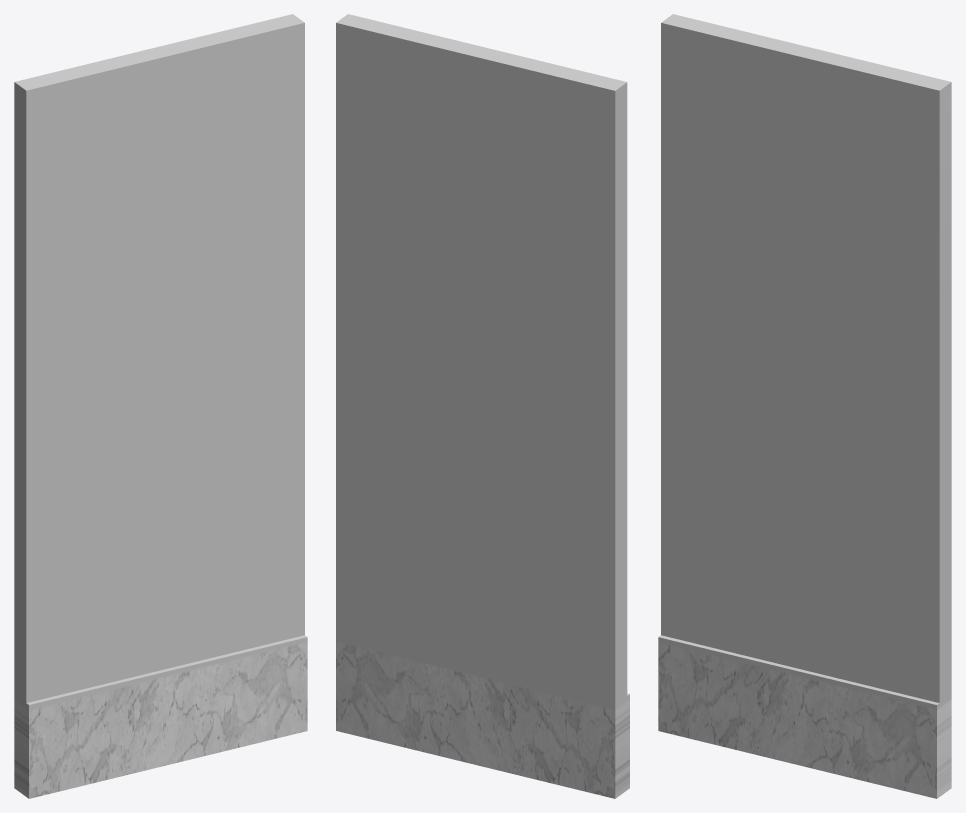
File: fbx_restaurant_wall3.fbx
3 renders of one model, left to right at view 1: azimuth 30°, elevation 25°; view 2: azimuth 150°, elevation 25°; view 3: azimuth 330°, elevation 25°, orthographic.
Visible parts, largest first — view 1: fbx_restaurant_wall3; view 2: fbx_restaurant_wall3; view 3: fbx_restaurant_wall3.
Part boxes in pixels (box(x1,y1,x2,y2)): fbx_restaurant_wall3: box(14, 14, 307, 798); fbx_restaurant_wall3: box(336, 14, 629, 798); fbx_restaurant_wall3: box(658, 14, 951, 798).
Size of the model in its own units: 2.75 by 6.67 by 0.2511.
Materials: 1 (1 with a texture image).
